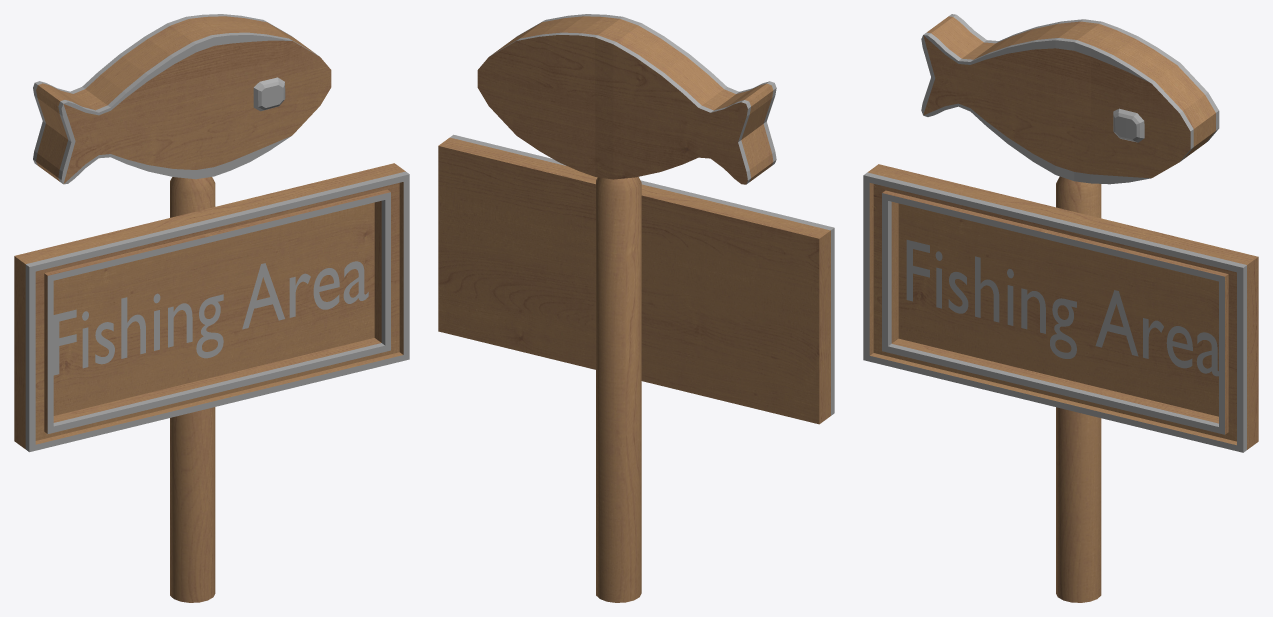
The model's file is Fishing-Sign.fbx.
The picture shows the model from 3 angles, left to right: view 1: azimuth 30°, elevation 25°; view 2: azimuth 150°, elevation 25°; view 3: azimuth 330°, elevation 25°; orthographic projection.
Visible parts, largest first — view 1: Fishing-Sign; view 2: Fishing-Sign; view 3: Fishing-Sign.
Boxes of the visible parts, x1,y1,x2,y2 form: Fishing-Sign: (14, 14, 409, 602); Fishing-Sign: (438, 14, 834, 602); Fishing-Sign: (863, 14, 1258, 602).
Bounding box in the file's own units: 430 × 609 × 81.32.
